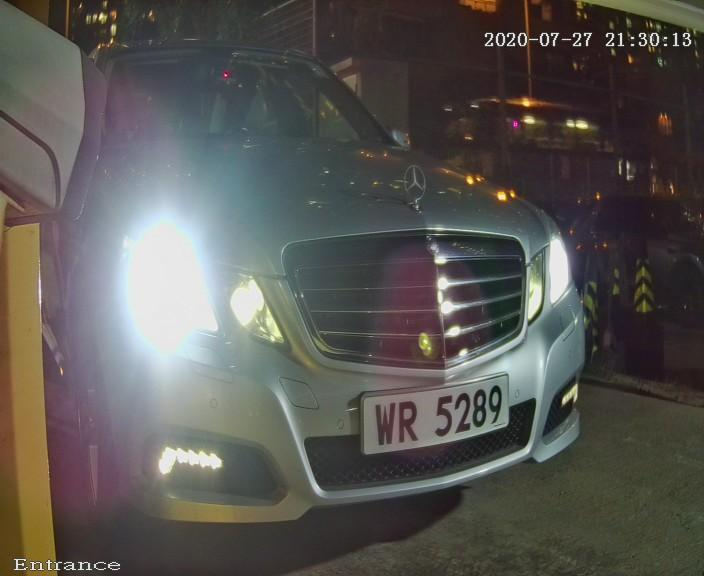privatecar: (76, 16, 582, 546)
